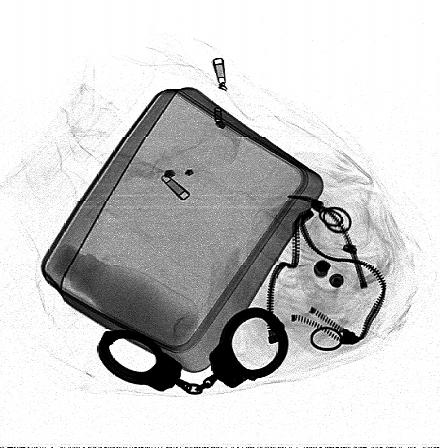HandCuffs: (97, 307, 290, 395)
